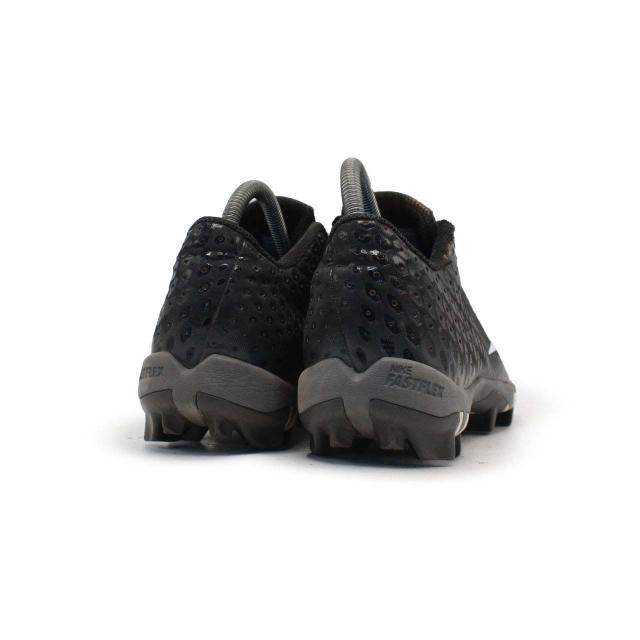heel: (149, 213, 304, 382), (302, 221, 460, 380)
midsole: (299, 357, 507, 462), (134, 354, 295, 454)
